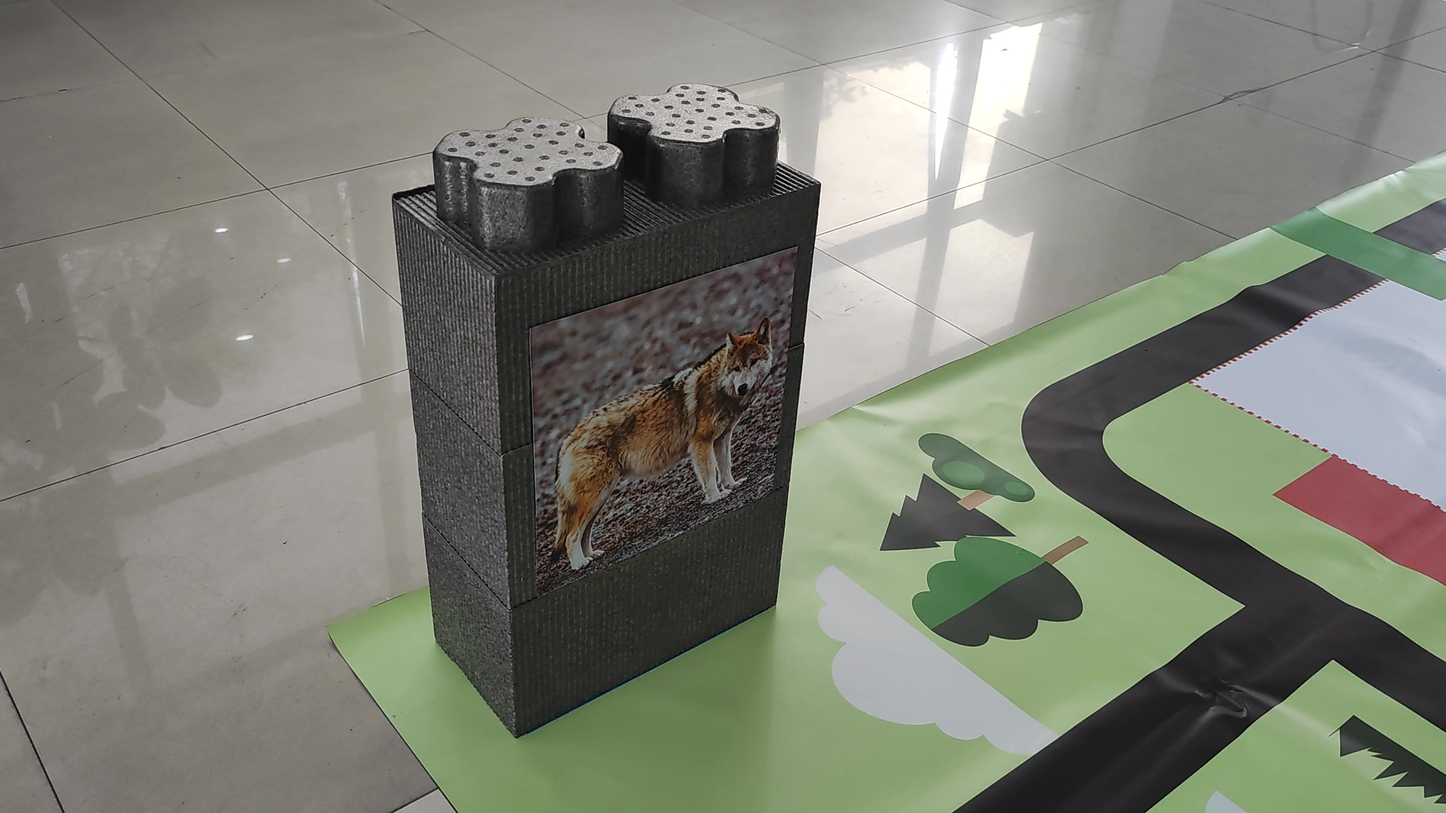wolf: (542, 320, 799, 556)
